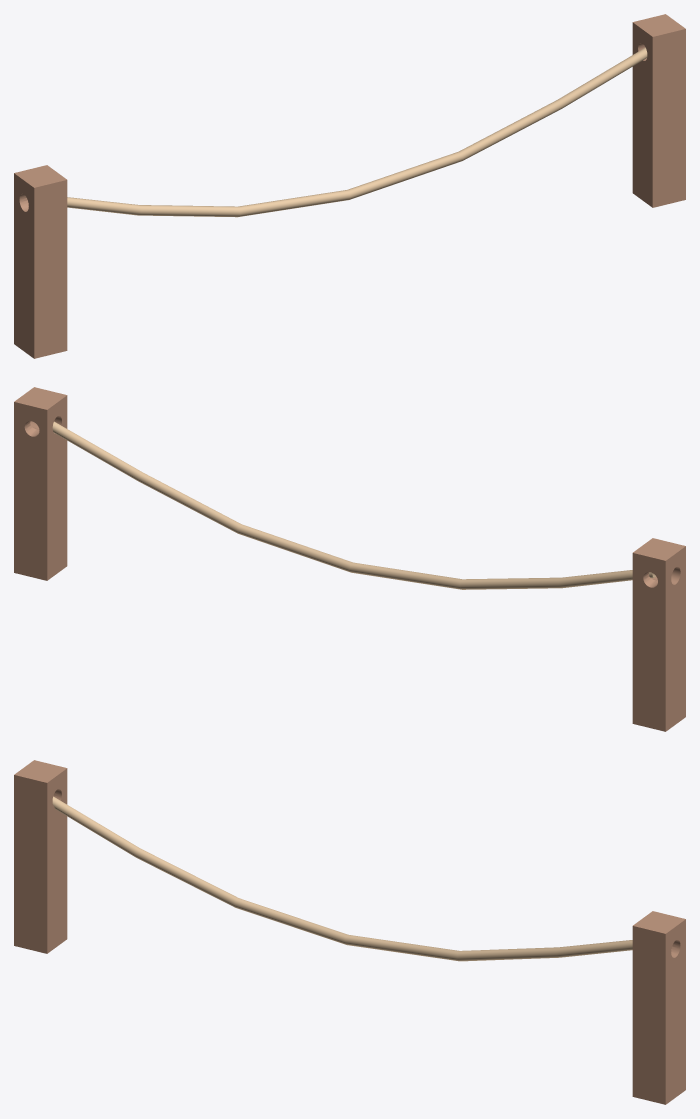
Rendered from bridge_piece_ropeguard_02.fbx.
The picture shows the model from 3 angles, top to bottom: view 1: azimuth 30°, elevation 25°; view 2: azimuth 150°, elevation 25°; view 3: azimuth 330°, elevation 25°; orthographic projection.
Visible parts, largest first — view 1: polySurface17; view 2: polySurface17; view 3: polySurface17.
Boxes of the visible parts, left/top/right/bottom form: polySurface17: left=14, top=14, right=685, bottom=358; polySurface17: left=14, top=387, right=685, bottom=731; polySurface17: left=14, top=760, right=685, bottom=1104.
Size of the model in its own units: 421 by 105 by 22.61.
